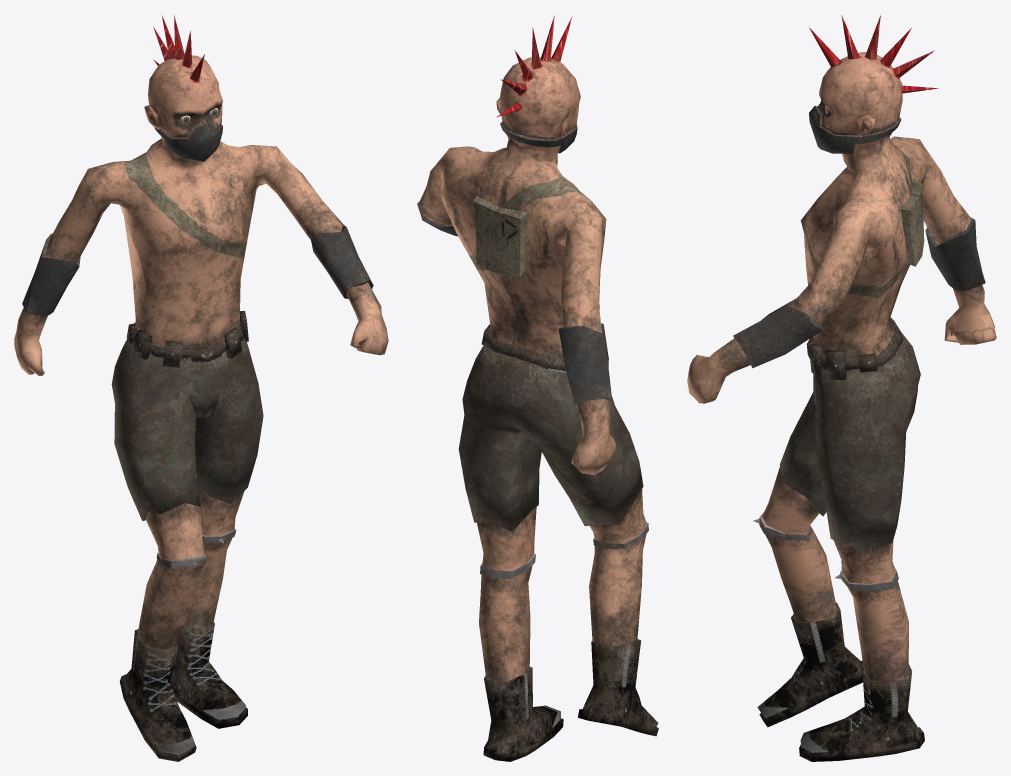
The model's file is Anim_andar_npc2.0038.obj.
3 views of the same model, side by side, from view 1: azimuth 30°, elevation 25°; view 2: azimuth 150°, elevation 25°; view 3: azimuth 270°, elevation 25° (orthographic). The views are drawn at different scales.
Parts seen in each view (by area): view 1: Anim_andar_npc2; view 2: Anim_andar_npc2; view 3: Anim_andar_npc2.
Part boxes in pixels (x1,y1,x2,y2): Anim_andar_npc2: [14, 15, 388, 761]; Anim_andar_npc2: [417, 15, 658, 761]; Anim_andar_npc2: [687, 15, 996, 761].
Bounding box in the file's own units: 3.98 × 10.3 × 3.94.
